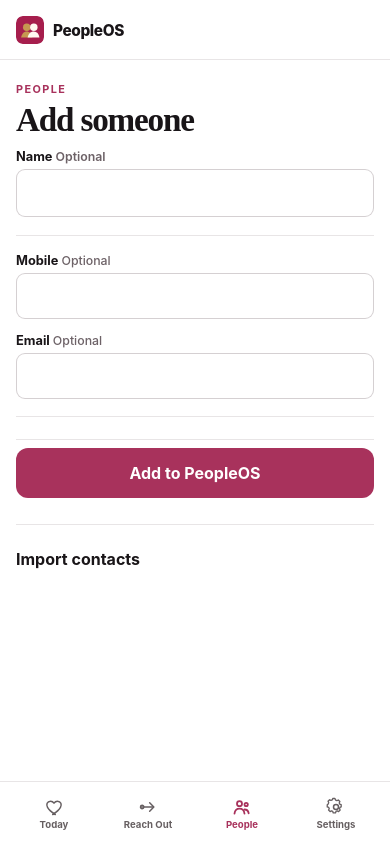
V1-03 manual person capture › keeps first capture deliberately minimal and creates a person without optional data
Expected: the heading "Add someone" is shown, [16, 101, 194, 138]
Expected: the field labelled "Mobile Optional" is shown, [16, 274, 374, 320]
Type "Sarah" into the field labelled "Name" at (195, 194), box [16, 170, 374, 218]
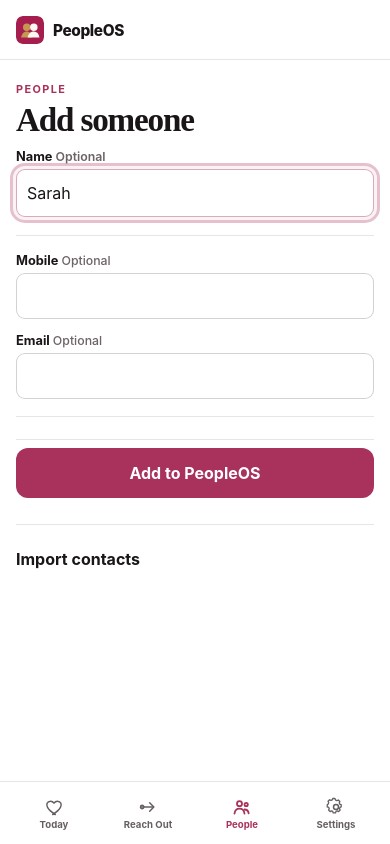
Click the button "Add to PeopleOS" at (195, 474), box [16, 448, 374, 498]
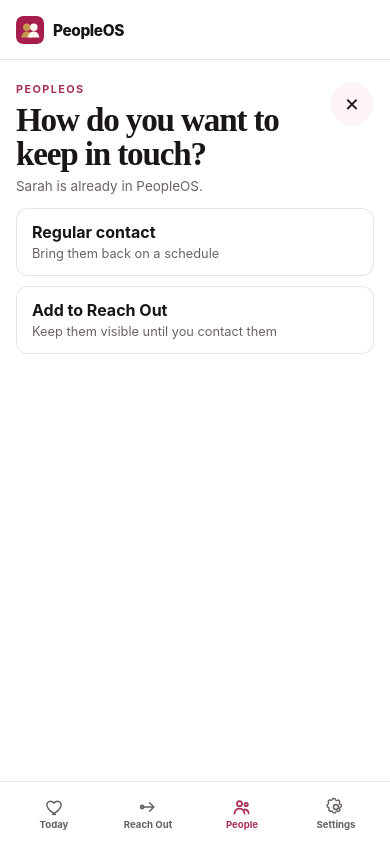
Now the text "Sarah is already in PeopleOS." is shown, box [16, 178, 203, 194]
